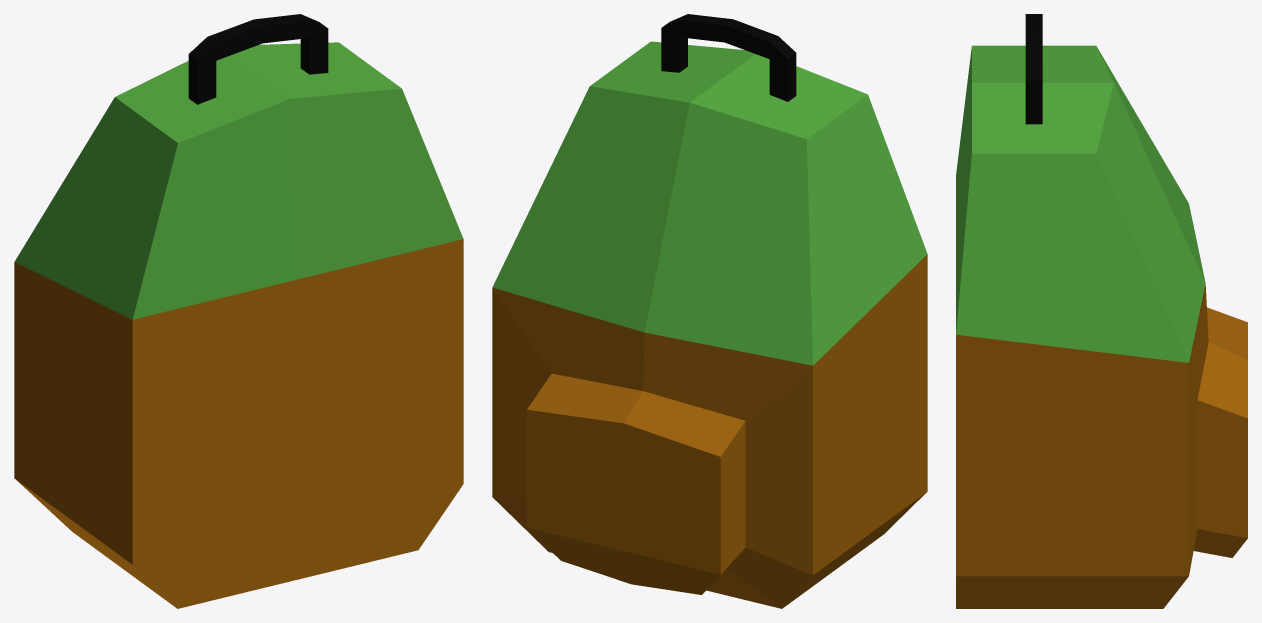
The model's file is backpack_orange.glb.
The picture shows the model from 3 angles, left to right: view 1: azimuth 30°, elevation 25°; view 2: azimuth 150°, elevation 25°; view 3: azimuth 270°, elevation 25°; orthographic projection. The views are drawn at different scales.
Visible parts, largest first — view 1: Backpack_orange; view 2: Backpack_orange; view 3: Backpack_orange.
Boxes of the visible parts, x1=… form: Backpack_orange: x1=14, y1=14, x2=463, y2=608; Backpack_orange: x1=492, y1=14, x2=927, y2=608; Backpack_orange: x1=956, y1=14, x2=1247, y2=608.
Size of the model in its own units: 0.5076 by 0.7739 by 0.3934.
1 material, 1 textured.
